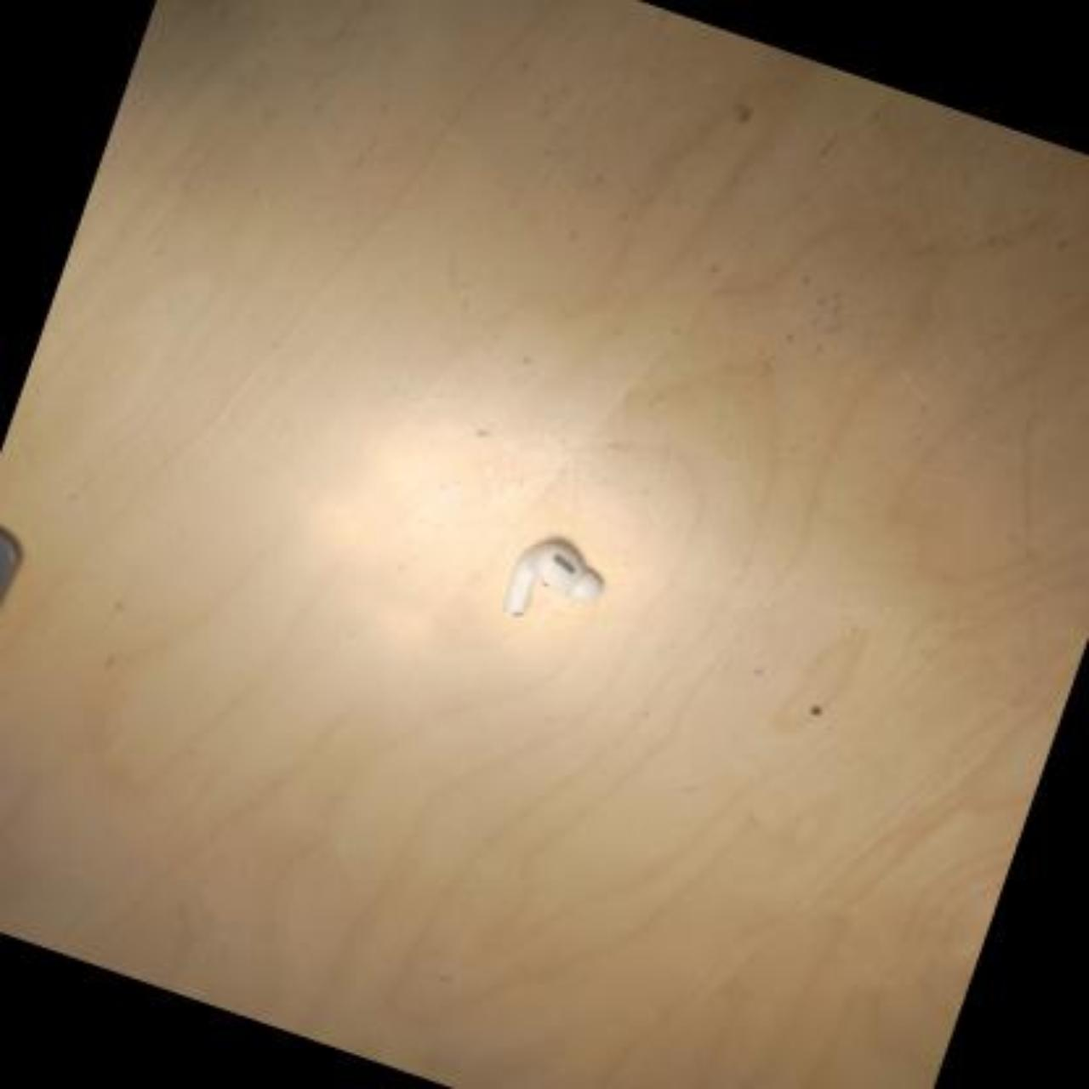Airpods_Units: (502, 536, 617, 641)
